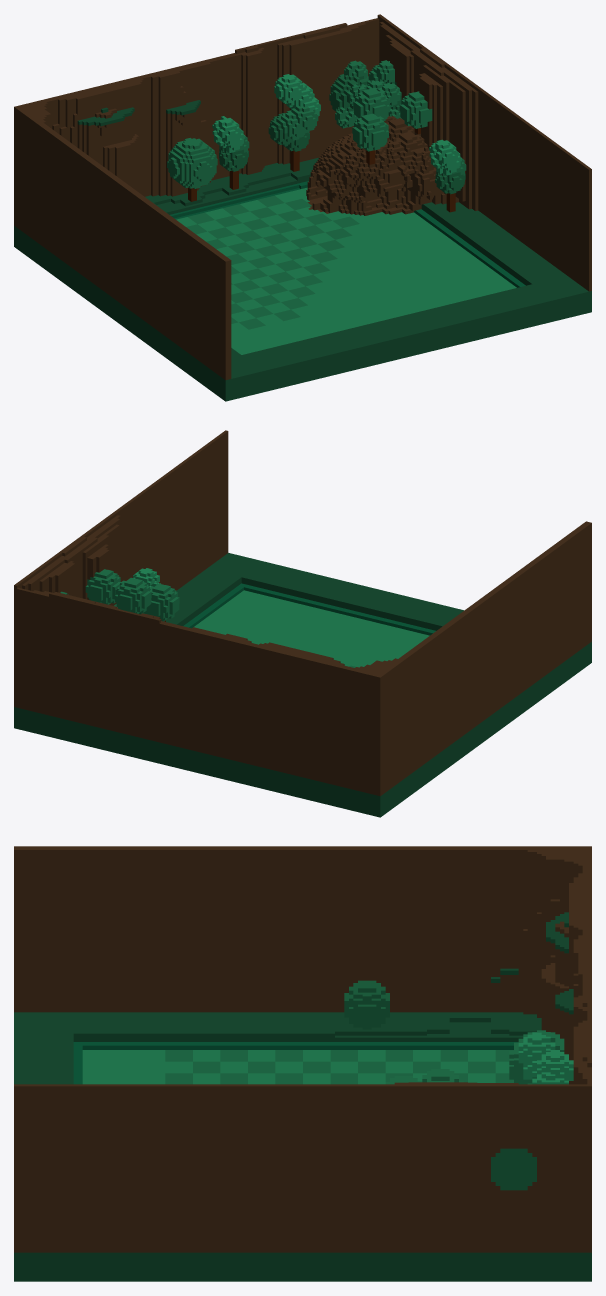
Rendered from landscapetest.obj.
3 renders of one model, top to bottom at view 1: azimuth 30°, elevation 25°; view 2: azimuth 150°, elevation 25°; view 3: azimuth 270°, elevation 25°, orthographic. The views are drawn at different scales.
Bounding box in the file's own units: 126 × 47 × 126.
Materials: 1 (1 with a texture image).
